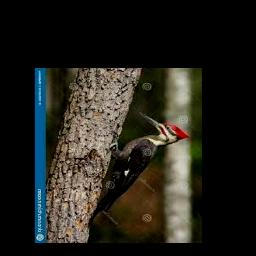Woodpecker: (88, 112, 188, 227)
